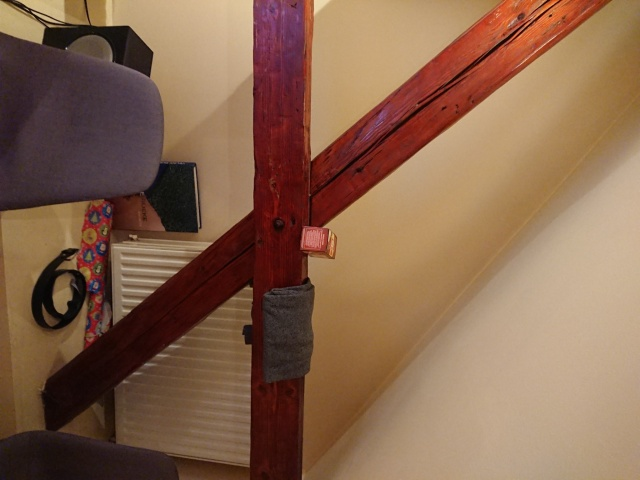Franck Apple Cinnamon Tea 60g: (296, 223, 339, 261)
